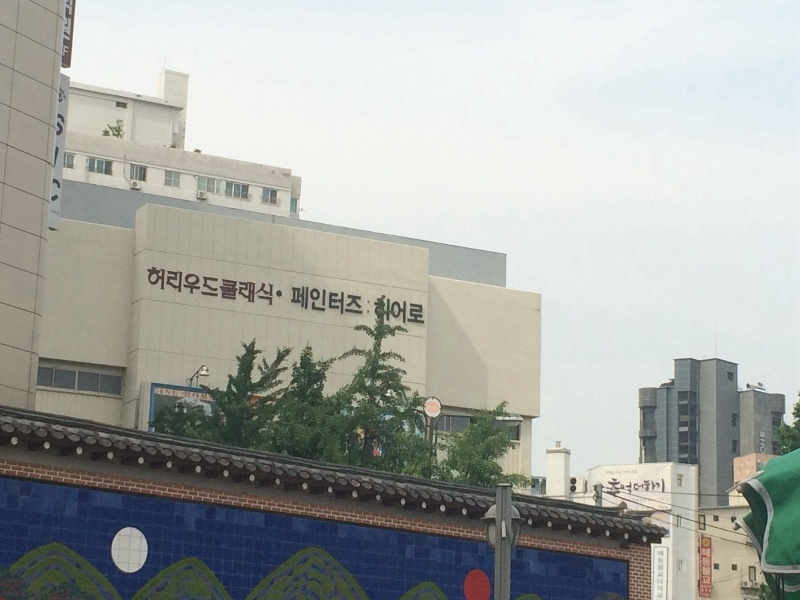text: (657, 551, 672, 599), (161, 265, 176, 308), (177, 265, 192, 308), (193, 265, 208, 308), (209, 265, 224, 308), (225, 265, 240, 308), (241, 265, 256, 308), (257, 265, 272, 308), (147, 265, 160, 308), (305, 284, 320, 318), (321, 284, 336, 318), (337, 284, 352, 318), (353, 284, 368, 318), (291, 284, 304, 318), (273, 265, 283, 308), (401, 299, 416, 326), (66, 16, 80, 43), (609, 478, 624, 499), (625, 478, 640, 499), (641, 478, 656, 499), (53, 176, 64, 203), (53, 145, 64, 170), (374, 296, 384, 322), (391, 299, 400, 326), (66, 1, 80, 17), (705, 548, 711, 585), (417, 299, 425, 326), (657, 478, 665, 499), (58, 111, 64, 138), (385, 296, 391, 322), (193, 391, 208, 401), (760, 438, 768, 454), (161, 389, 176, 397), (51, 208, 64, 217), (701, 548, 704, 585), (609, 469, 624, 475), (184, 391, 192, 401), (625, 469, 637, 475), (65, 44, 69, 59), (760, 431, 768, 438), (705, 585, 711, 594), (65, 111, 67, 138), (60, 92, 64, 103), (369, 284, 370, 318), (701, 585, 704, 594), (607, 478, 608, 499), (606, 469, 608, 475), (177, 389, 178, 397)
